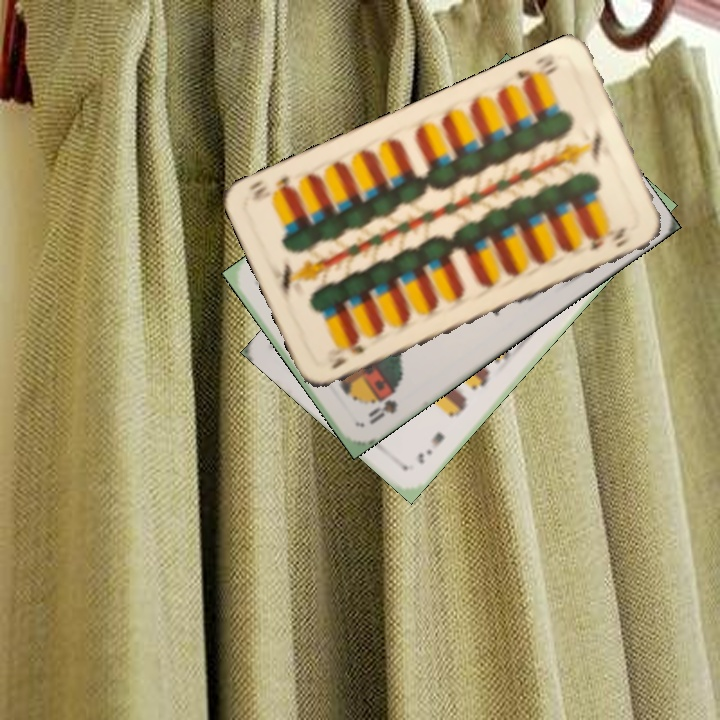E10: (513, 49, 562, 91), (327, 336, 367, 372)
E7: (413, 428, 448, 467)
SO: (363, 385, 401, 427)
